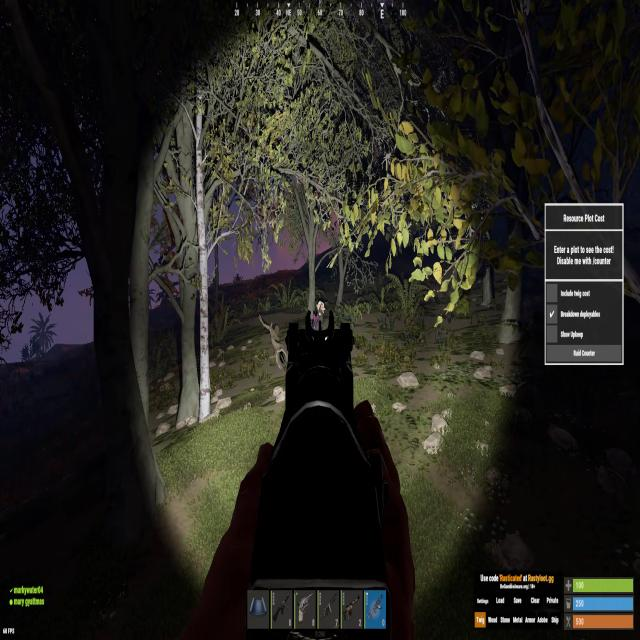Player: (312, 301, 324, 331)
